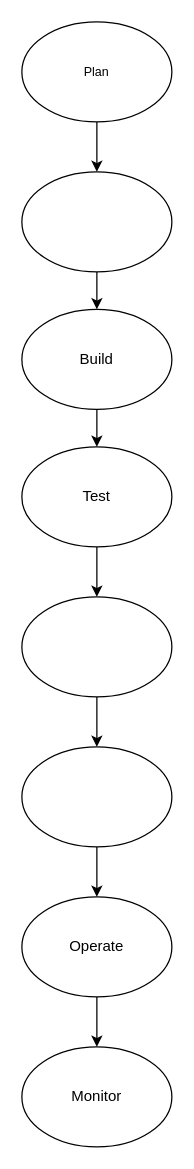
This 194x1169 diagram has some shape labels left out. Each missing label, with the box of its shape:
Deoploy: (21, 746, 172, 847)
Develop: (21, 171, 172, 272)
Release: (21, 596, 172, 697)
